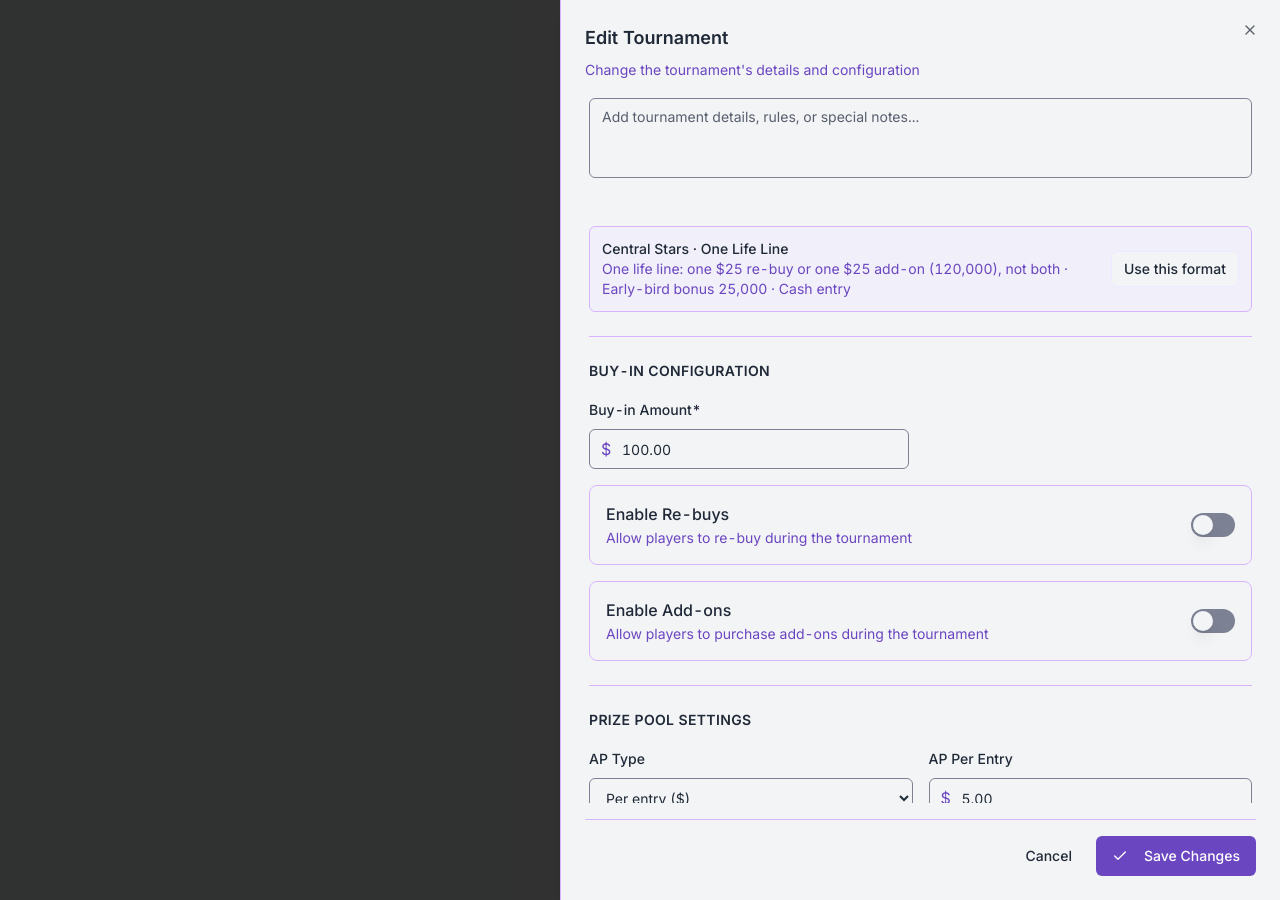
Test: EditTournamentDialog (CA-14) › shows the server's refusal and stays open
(page scrolled)
Note: $6 still covers the $5 AP per buy-in (a lower price is refused on its box first: R4-CQ-07).
Replace the text in the field with test id "buyin-amount" with "6". click: (749,449)
box: [589, 429, 909, 469]
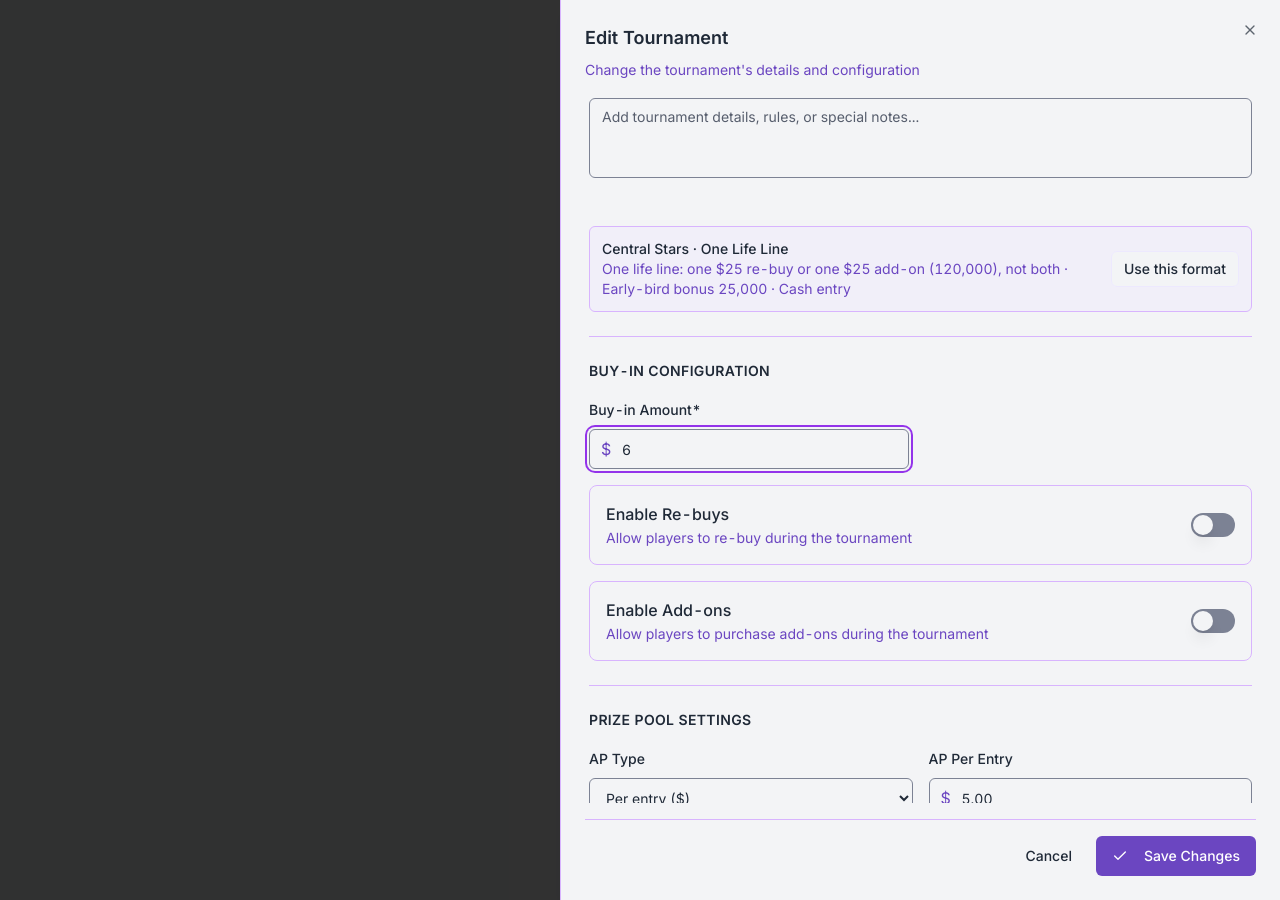
Click the button with test id "save-tournament". click: (1176,856)
box: [1096, 836, 1256, 876]
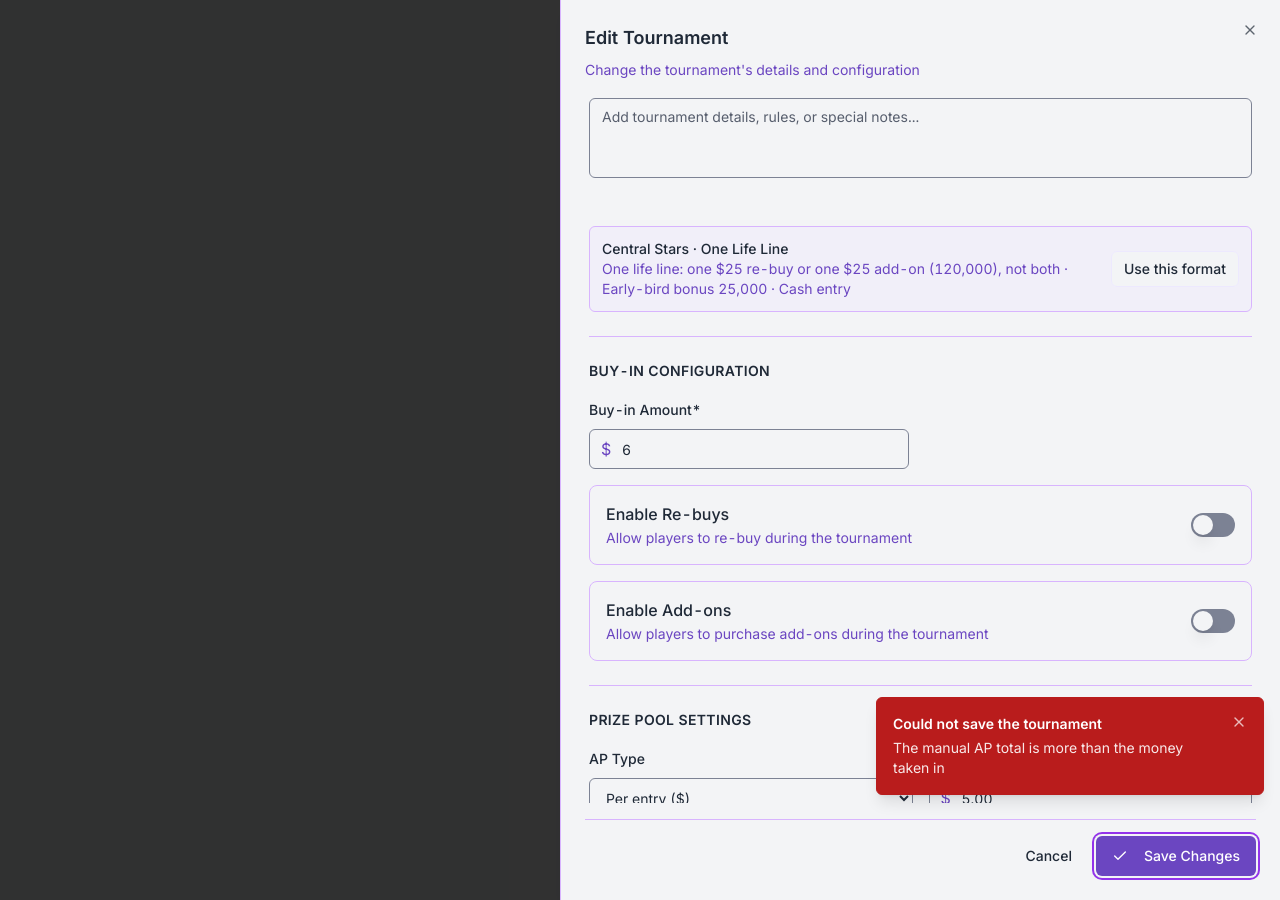
Now the text "The manual AP total is more than the money taken in" is shown, box [893, 738, 1215, 778]
